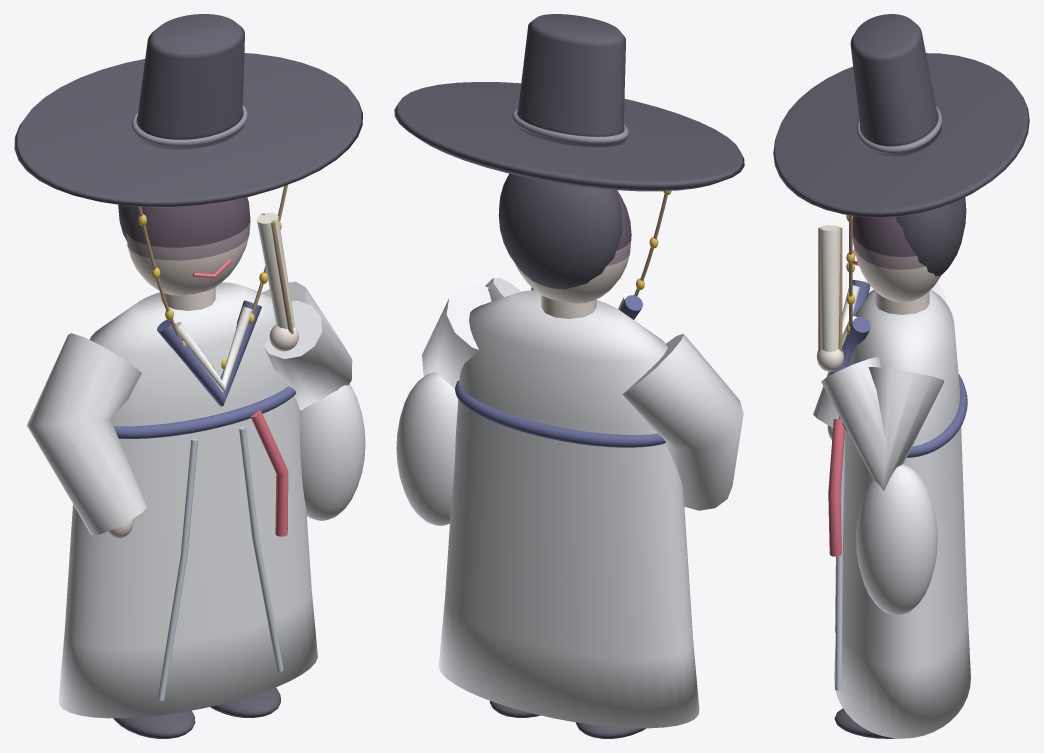
File: conch_jeonwoochi_closed_throw_0_0.glb
3 views of the same model, side by side, from view 1: azimuth 30°, elevation 25°; view 2: azimuth 150°, elevation 25°; view 3: azimuth 270°, elevation 25° (orthographic).
Size of the model in its own units: 27.85 by 55.23 by 18.85.
